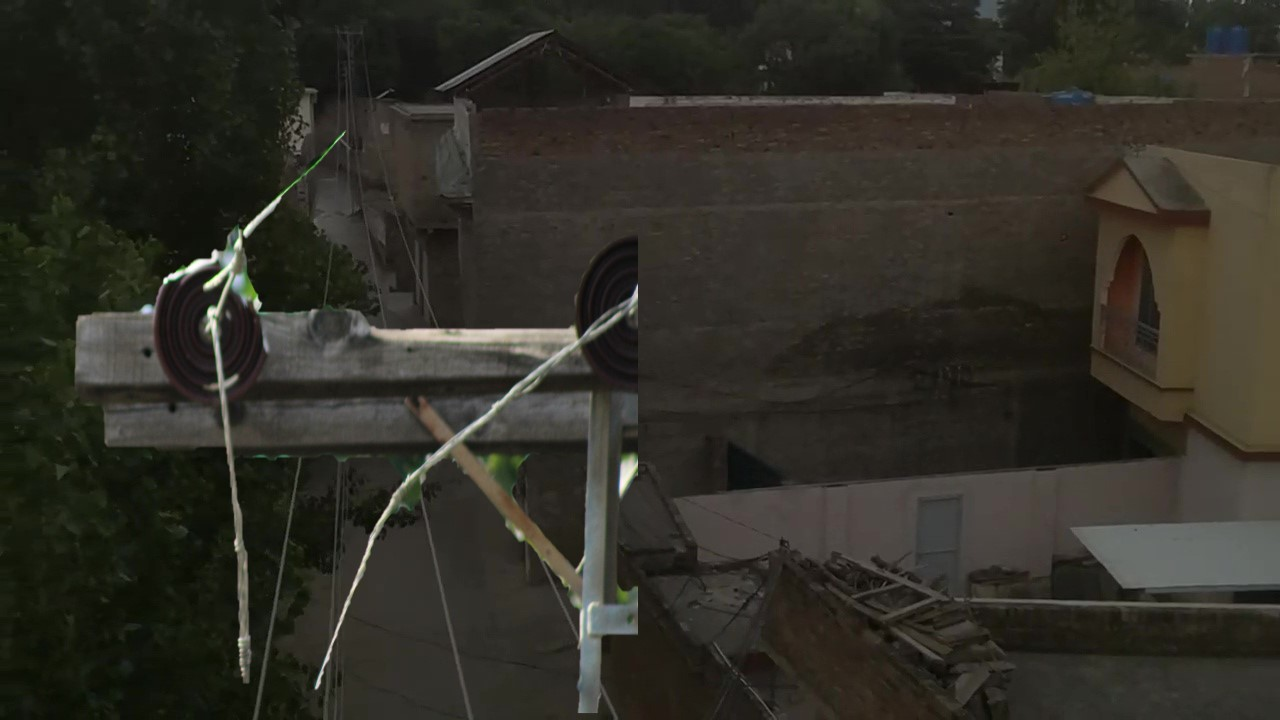defect_disc: (151, 246, 278, 408)
